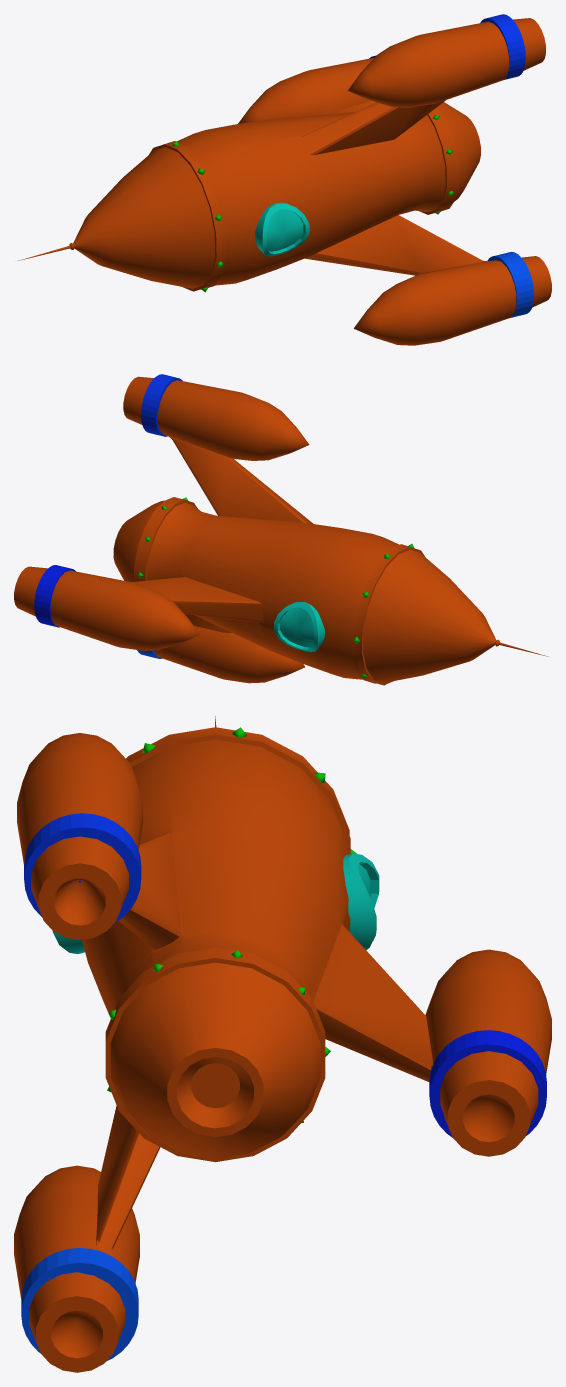
Rendered from rocketsmall.fbx.
The picture shows the model from 3 angles, top to bottom: view 1: azimuth 30°, elevation 25°; view 2: azimuth 150°, elevation 25°; view 3: azimuth 270°, elevation 25°; orthographic projection. The views are drawn at different scales.
Parts seen in each view (by area): view 1: Cylinder002, Cylinder004, Cylinder, Cylinder.001; view 2: Cylinder002, Cylinder004.001, Cylinder.001, Cylinder.002; view 3: Cylinder002, Cylinder, Cylinder.001, Cylinder.002, Cylinder004.001.
Boxes of the visible parts, x1,y1,x2,y2 form: Cylinder002: (18, 18, 551, 345); Cylinder004: (255, 202, 309, 256); Cylinder: (487, 251, 534, 318); Cylinder.001: (480, 14, 525, 79); Cylinder002: (14, 376, 548, 685); Cylinder004.001: (274, 602, 324, 651); Cylinder.001: (141, 374, 182, 436); Cylinder.002: (34, 565, 75, 627); Cylinder002: (14, 716, 551, 1372); Cylinder: (21, 1248, 138, 1360); Cylinder.001: (24, 813, 141, 923); Cylinder.002: (429, 1030, 546, 1137); Cylinder004.001: (343, 853, 379, 949).
Bounding box in the file's own units: 207 × 123 × 110.
